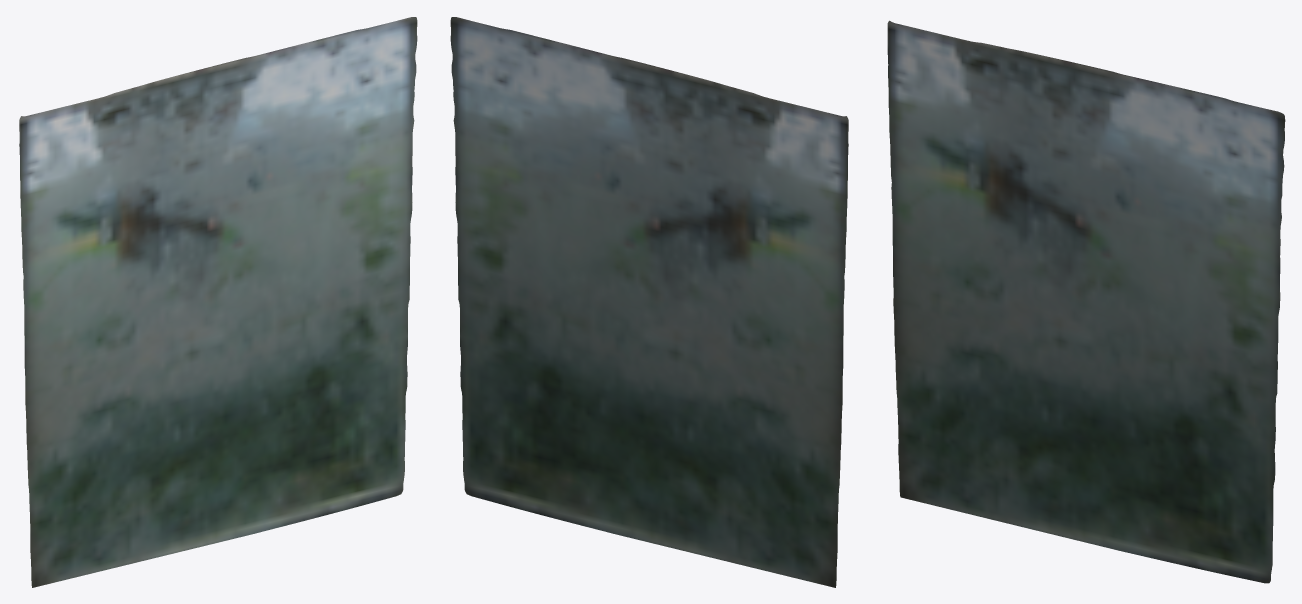
The model's file is janitor_mirror.FBX.
The picture shows the model from 3 angles, left to right: view 1: azimuth 30°, elevation 25°; view 2: azimuth 150°, elevation 25°; view 3: azimuth 330°, elevation 25°; orthographic projection.
Parts seen in each view (by area): view 1: janitor_mirror; view 2: janitor_mirror; view 3: janitor_mirror.
Boxes of the visible parts, <box> form: janitor_mirror: <box>19,17,417,587</box>; janitor_mirror: <box>450,17,848,587</box>; janitor_mirror: <box>887,20,1285,583</box>.
Bounding box in the file's own units: 34.38 × 38.82 × 1.43e-05.
